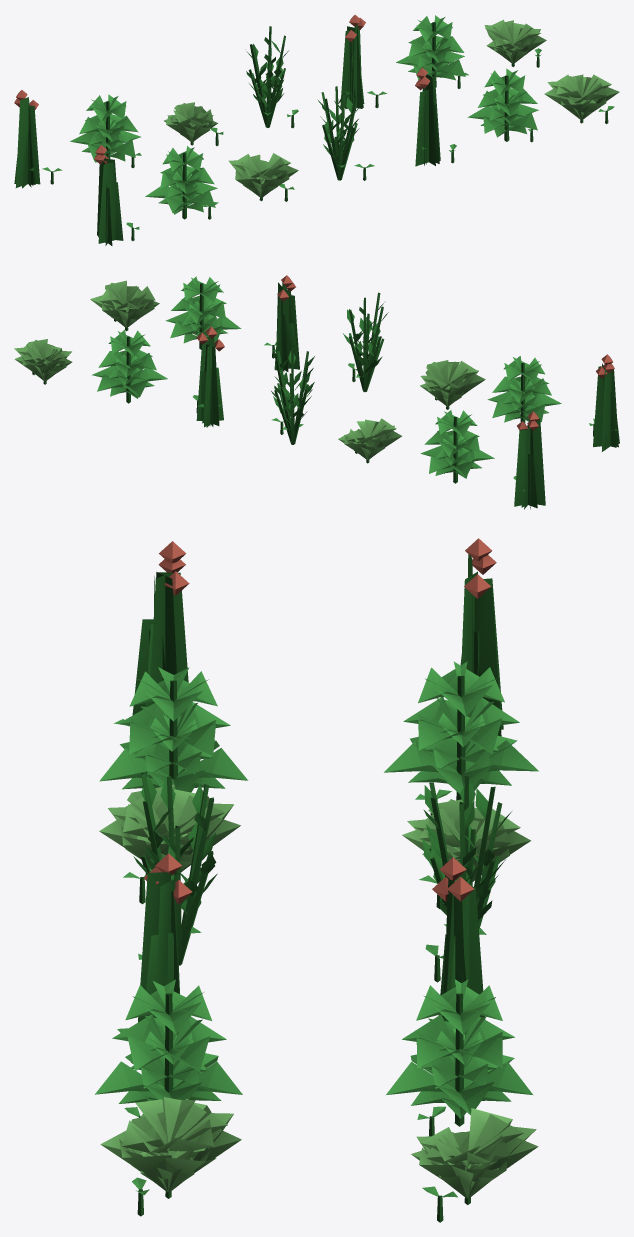
Rendered from crop_herbs.glb.
3 renders of one model, top to bottom at view 1: azimuth 30°, elevation 25°; view 2: azimuth 150°, elevation 25°; view 3: azimuth 270°, elevation 25°, orthographic. The views are drawn at different scales.
Visible parts, largest first — view 1: Stage3, Stage2, Stage1; view 2: Stage3, Stage2, Stage1; view 3: Stage3, Stage2, Stage1.
Part boxes in pixels (box(x1,y1,x2,y2)): Stage3: box(14, 15, 619, 243); Stage2: box(14, 39, 599, 245); Stage1: box(28, 48, 614, 240); Stage3: box(14, 275, 618, 509); Stage2: box(27, 301, 619, 509); Stage1: box(32, 319, 617, 491); Stage3: box(95, 538, 538, 1197); Stage2: box(118, 619, 511, 1198); Stage1: box(113, 719, 486, 1222).
Bounding box in the file's own units: 2.64 × 0.4525 × 0.9625.
